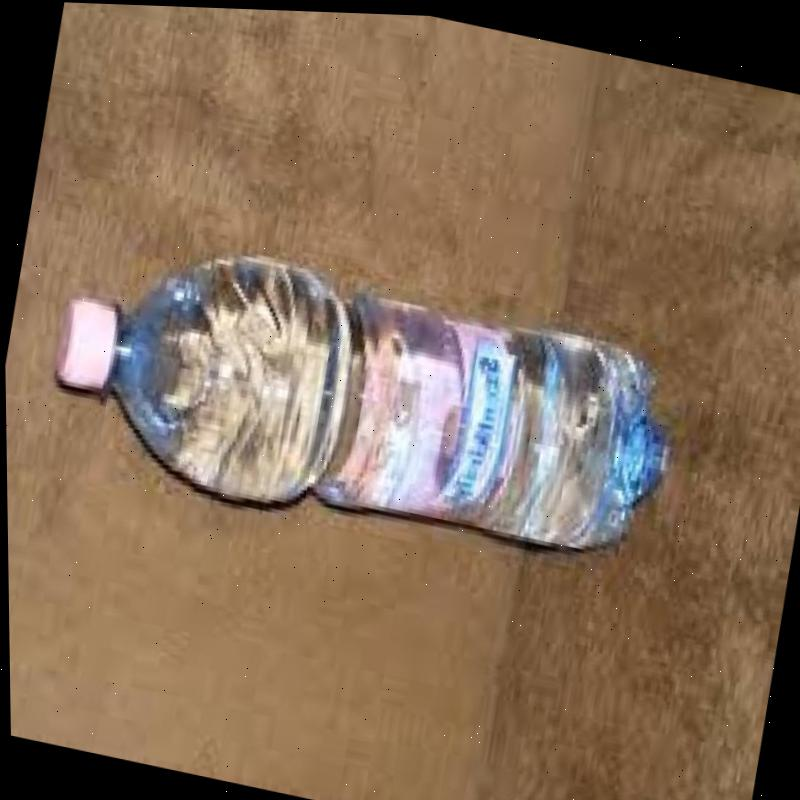botella: (34, 212, 685, 589)
